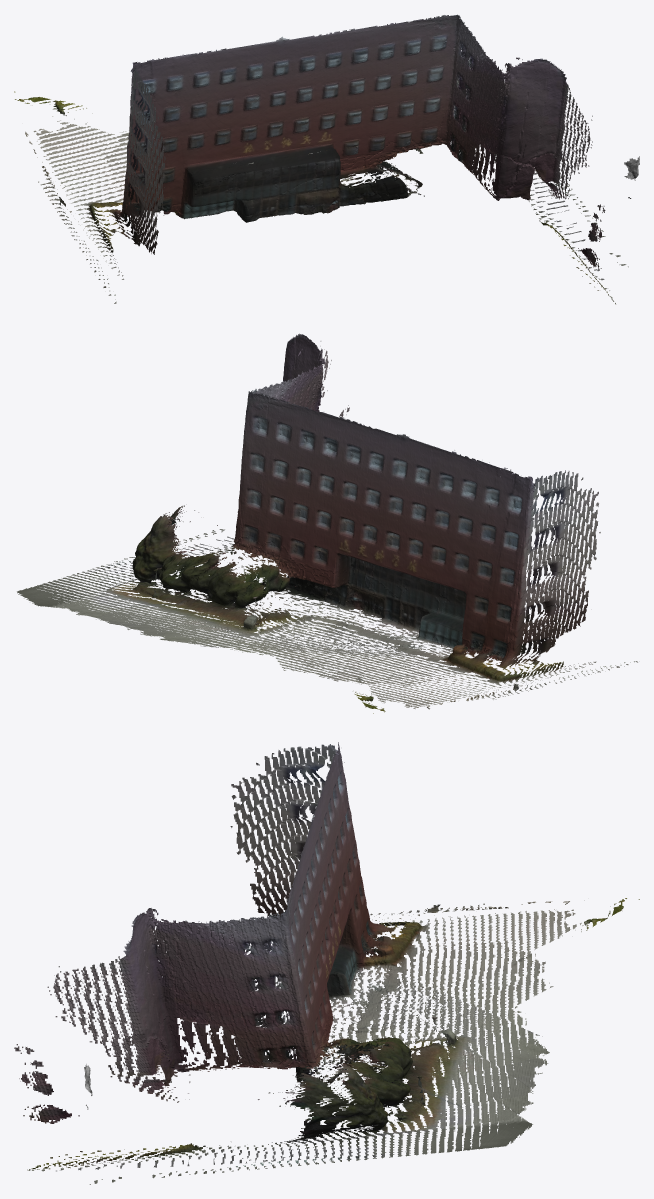
Rendered from yf_mesh_unity.obj.
The picture shows the model from 3 angles, top to bottom: view 1: azimuth 30°, elevation 25°; view 2: azimuth 150°, elevation 25°; view 3: azimuth 270°, elevation 25°; orthographic projection. The views are drawn at different scales.
Size of the model in its own units: 1.84 by 0.8 by 1.86.
